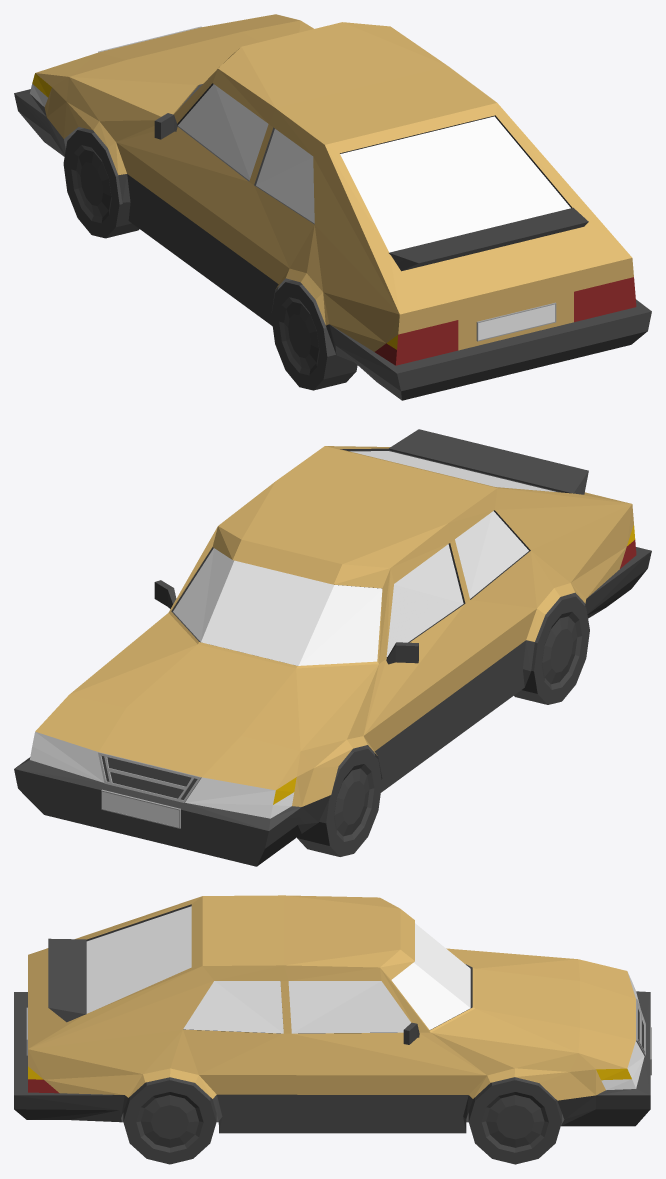
File: lowpoly_car.glb
3 views of the same model, one above another, from view 1: azimuth 30°, elevation 25°; view 2: azimuth 150°, elevation 25°; view 3: azimuth 270°, elevation 25° (orthographic). The views are drawn at different scales.
Visible parts, largest first — view 1: Box012_Material #280_0; view 2: Box012_Material #280_0; view 3: Box012_Material #280_0.
Boxes of the visible parts, x1=… form: Box012_Material #280_0: x1=14, y1=14, x2=651, y2=400; Box012_Material #280_0: x1=14, y1=429, x2=651, y2=866; Box012_Material #280_0: x1=14, y1=895, x2=651, y2=1164.
Bounding box in the file's own units: 1.98 × 1.55 × 4.92.
1 material, 1 textured.
